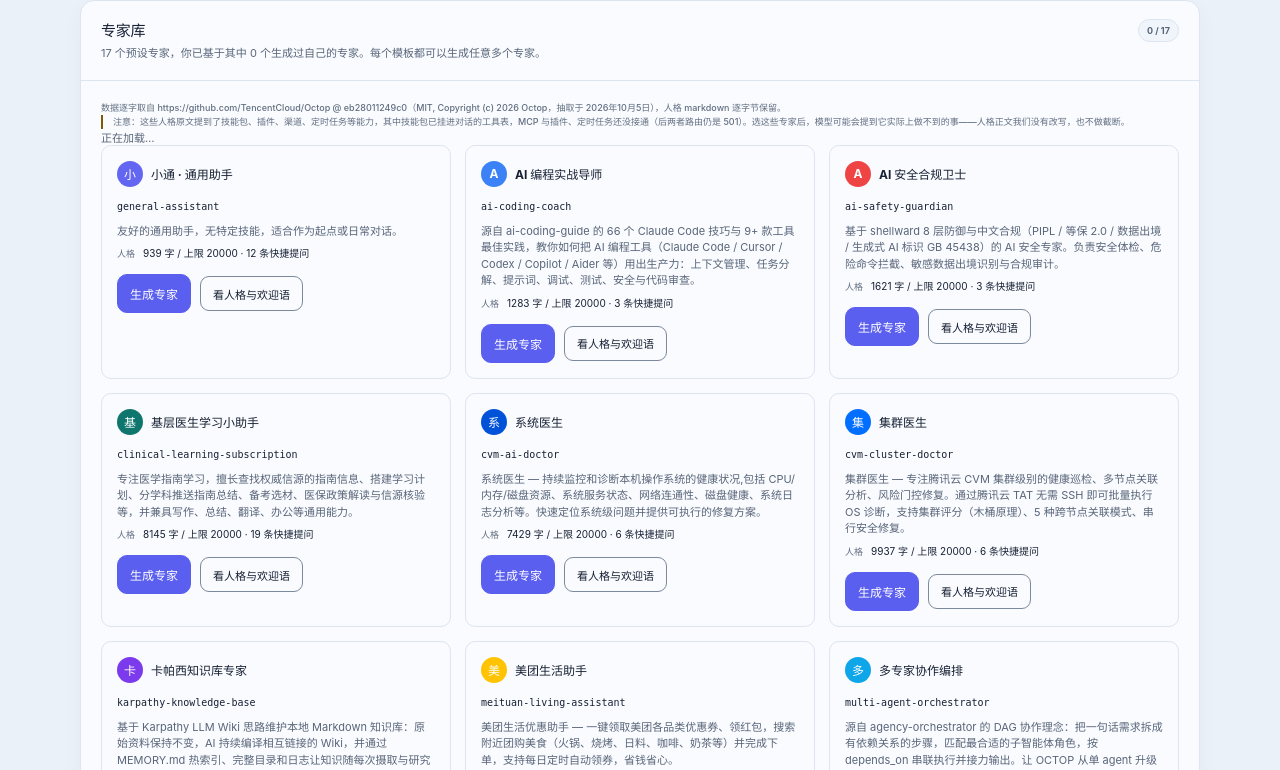
Test: 生成面板预填模板人格全文，并如实说明原模板不受影响
Step 1. Click the button "生成专家" below "1283 字 / 上限 20000" → point(518, 343), box [481,324,555,363]
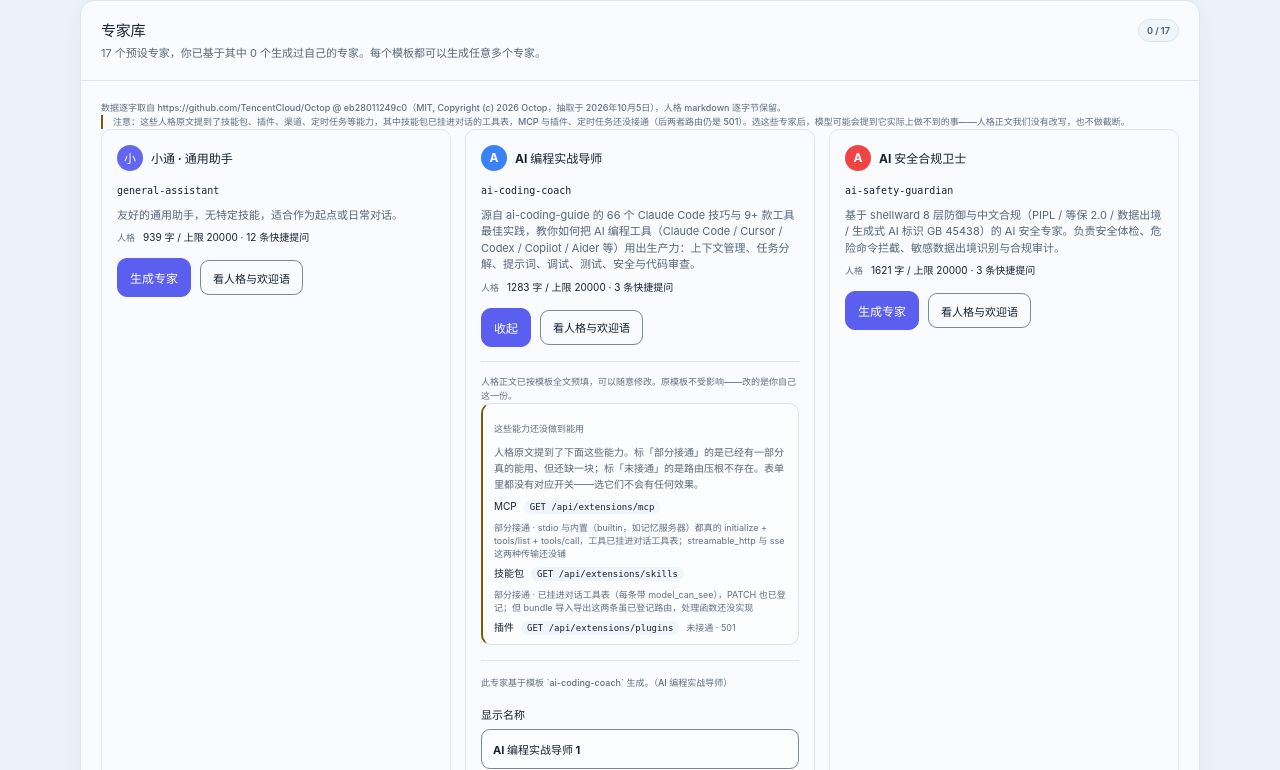
expect the text "人格正文已按模板全文预填，可以随意修改。原模板不受影响——改的是你自己这一份。" is shown: met, box [481,375,799,403]
expect the text "此专家基于模板 `ai-coding-coach` 生成。（AI 编程实战导师）" is shown: met, box [481,677,732,688]
